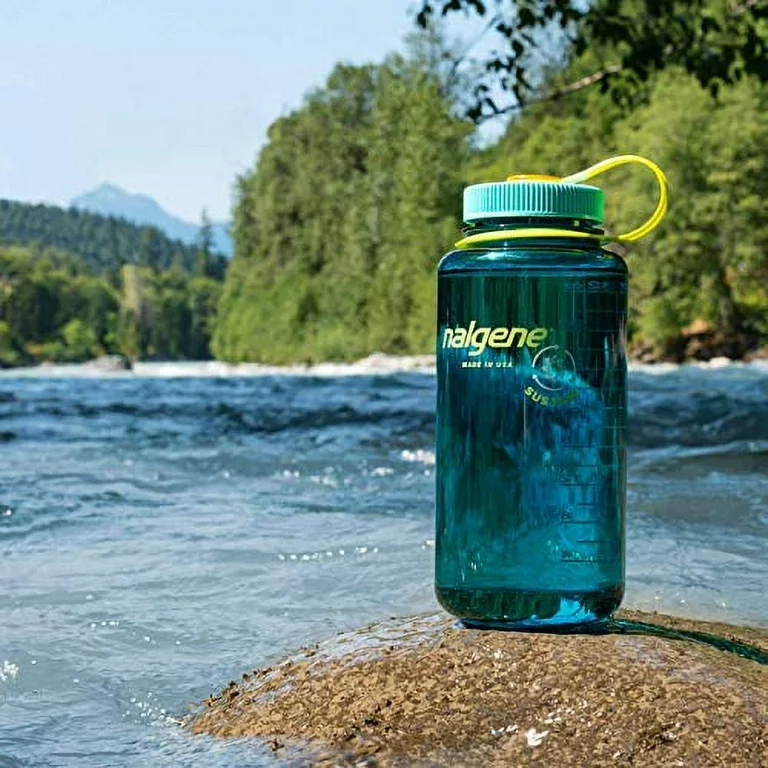waterbottle: (433, 152, 668, 629)
